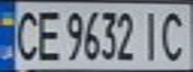2: (115, 8, 142, 62)
3: (96, 8, 121, 62)
6: (81, 8, 103, 62)
9: (60, 7, 84, 62)
C: (6, 6, 42, 62), (157, 7, 193, 62)
E: (33, 7, 63, 62)
I: (136, 7, 166, 62)
